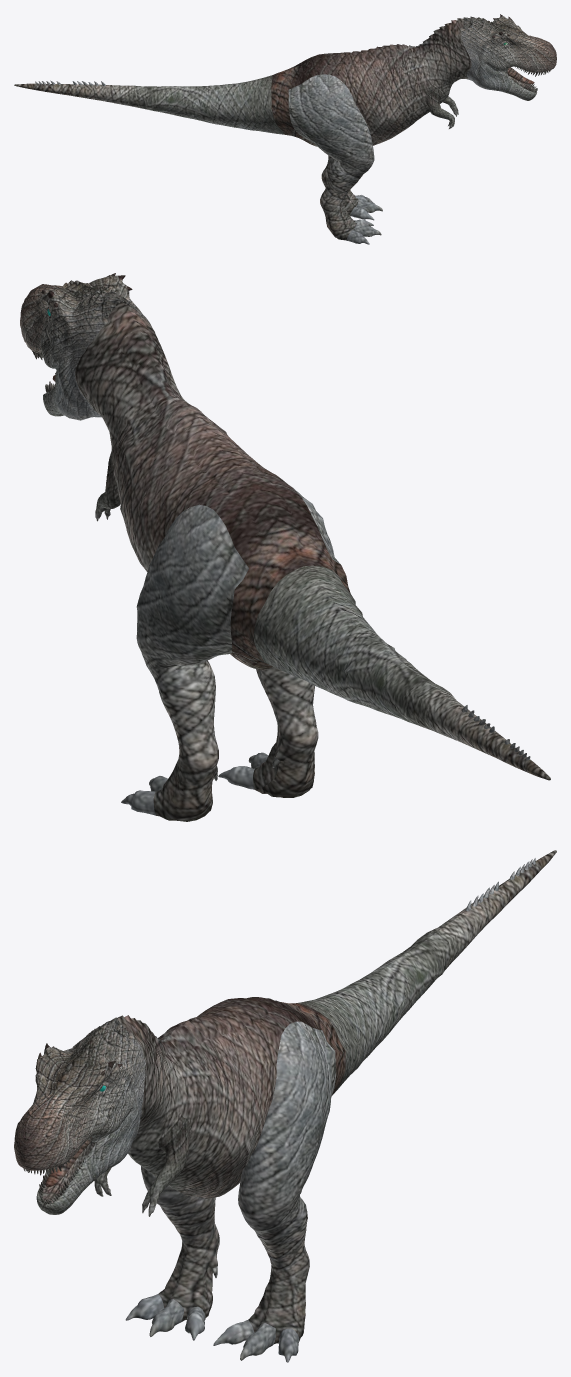
The model's file is Trex2.obj.
3 renders of one model, top to bottom at view 1: azimuth 30°, elevation 25°; view 2: azimuth 150°, elevation 25°; view 3: azimuth 270°, elevation 25°, orthographic. The views are drawn at different scales.
Parts seen in each view (by area): view 1: Cuerpo, Cabeza; view 2: Cuerpo, Cabeza; view 3: Cuerpo, Cabeza.
Boxes of the visible parts, bbox=[...] form: Cuerpo: bbox=[14, 18, 471, 244]; Cabeza: bbox=[461, 14, 556, 100]; Cuerpo: bbox=[75, 302, 550, 821]; Cabeza: bbox=[20, 273, 148, 420]; Cuerpo: bbox=[94, 850, 556, 1362]; Cabeza: bbox=[14, 1017, 145, 1214].
Bounding box in the file's own units: 21.36 × 10.54 × 13.36.
Materials: 2 (2 with a texture image).
